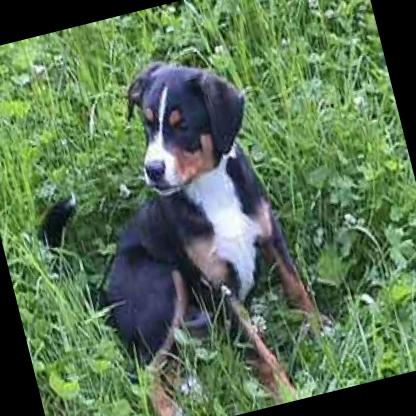Appenzeller: (0, 30, 336, 416)
